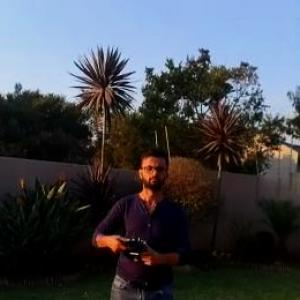follow: (88, 141, 196, 299)
